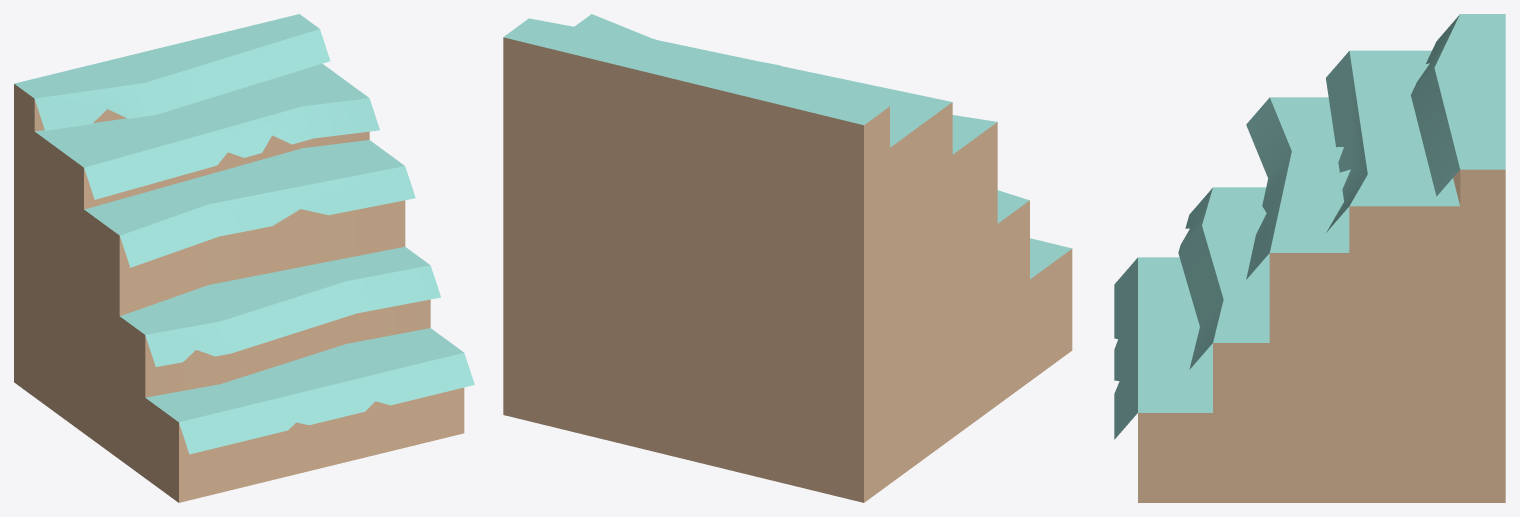
File: cliffBrown_steps.gltf
3 views of the same model, side by side, from view 1: azimuth 30°, elevation 25°; view 2: azimuth 150°, elevation 25°; view 3: azimuth 270°, elevation 25° (orthographic). The views are drawn at different scales.
Visible parts, largest first — view 1: cliffBrown_steps; view 2: cliffBrown_steps; view 3: cliffBrown_steps.
Part boxes in pixels (x1,y1,x2,y2): cliffBrown_steps: [14, 14, 474, 502]; cliffBrown_steps: [503, 14, 1072, 502]; cliffBrown_steps: [1114, 14, 1505, 502].
Size of the model in its own units: 10 by 10 by 10.64.
